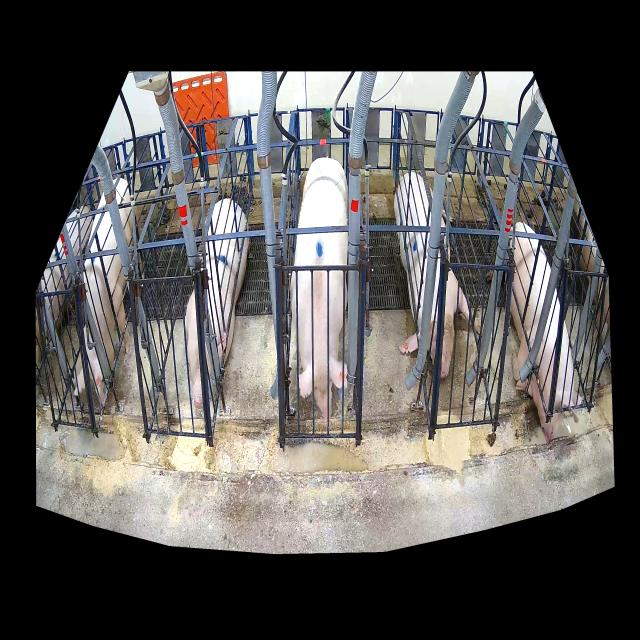pig: (511, 222, 582, 443), (394, 172, 469, 378), (290, 158, 348, 419), (185, 198, 249, 409), (78, 177, 134, 407)
